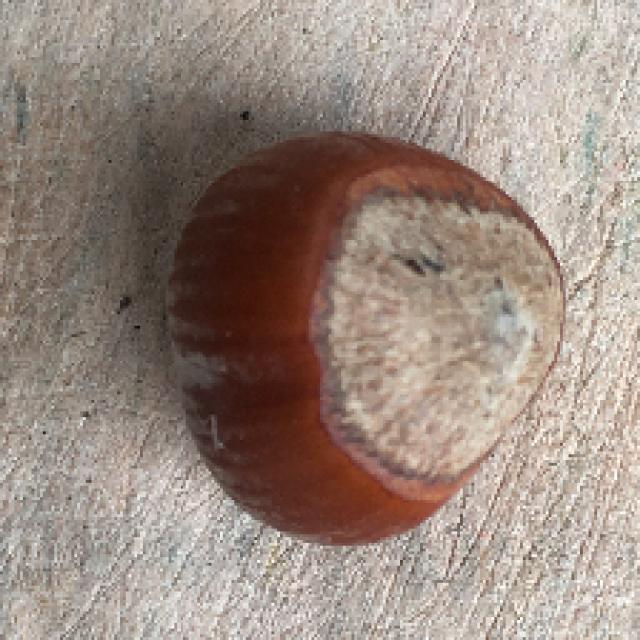qualityHazelnut: (149, 119, 574, 556)
